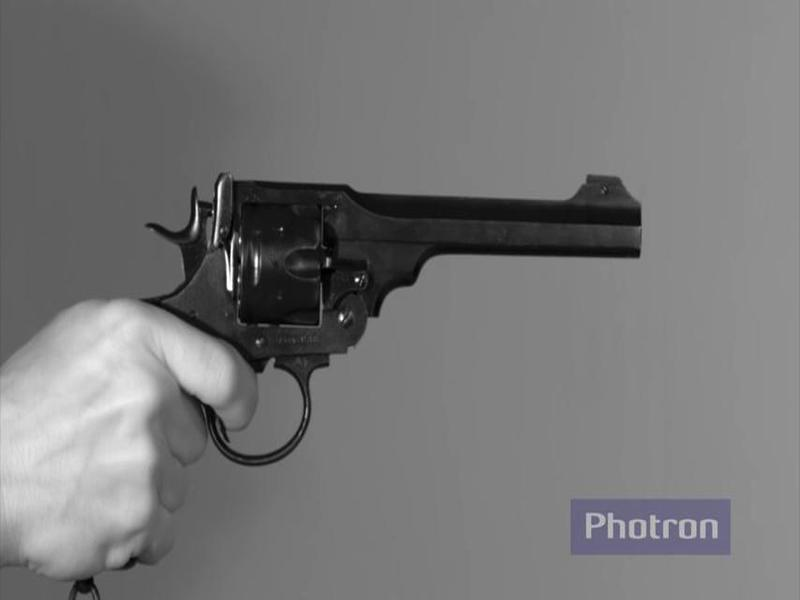Revolver: (145, 150, 682, 475)
